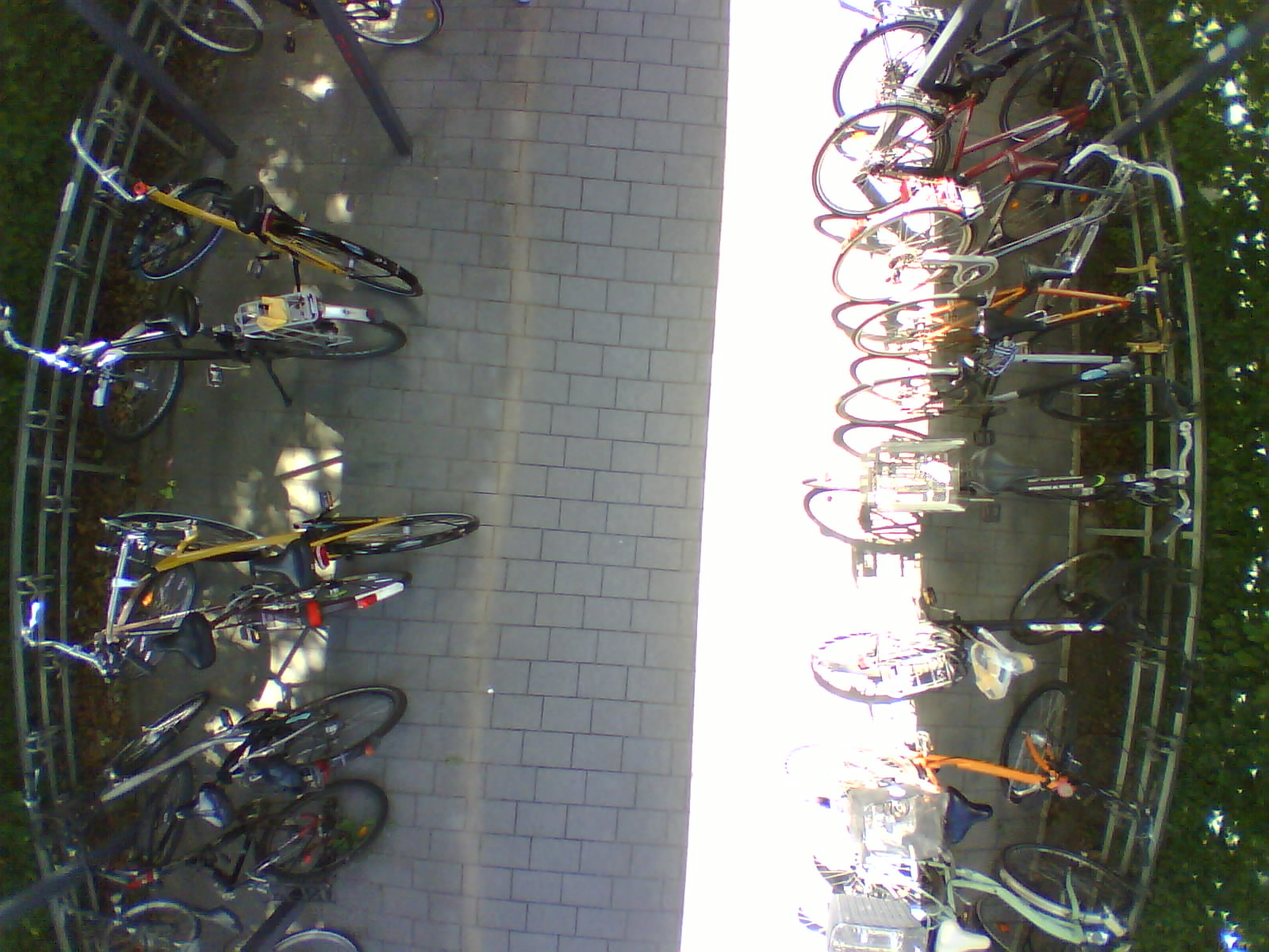bicylce: (74, 692, 408, 916), (86, 490, 482, 658), (786, 400, 1200, 551), (807, 40, 1152, 221), (773, 688, 1176, 841), (803, 548, 1202, 701), (830, 141, 1190, 309), (60, 779, 389, 942), (63, 299, 407, 446), (833, 304, 1198, 442), (69, 567, 416, 696), (110, 160, 425, 301), (848, 248, 1187, 367), (830, 0, 1111, 133), (800, 826, 1148, 920), (784, 887, 1135, 952)
saddle: (974, 631, 1037, 702), (148, 608, 217, 670), (937, 776, 996, 848), (960, 443, 1037, 498), (134, 281, 203, 340), (247, 541, 320, 595), (970, 309, 1053, 350), (171, 785, 233, 835), (206, 182, 265, 232), (1001, 141, 1061, 186), (952, 38, 1006, 86), (934, 912, 991, 952), (187, 900, 246, 935)
